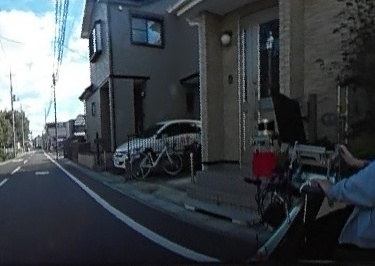person: (302, 41, 375, 252)
